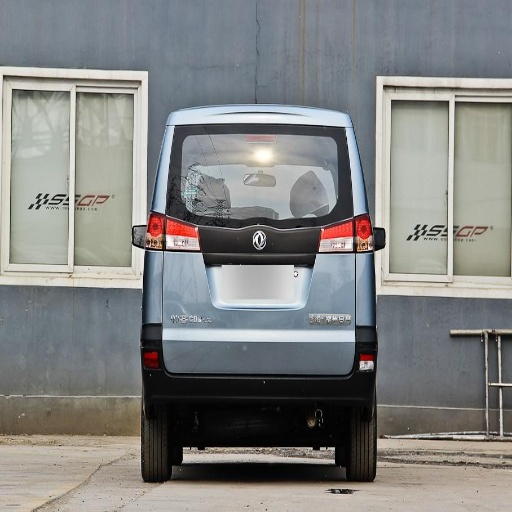back_bumper: (140, 249, 377, 454)
tailgate: (246, 170, 348, 302), (419, 3, 485, 46)
trunk: (162, 137, 355, 370)
